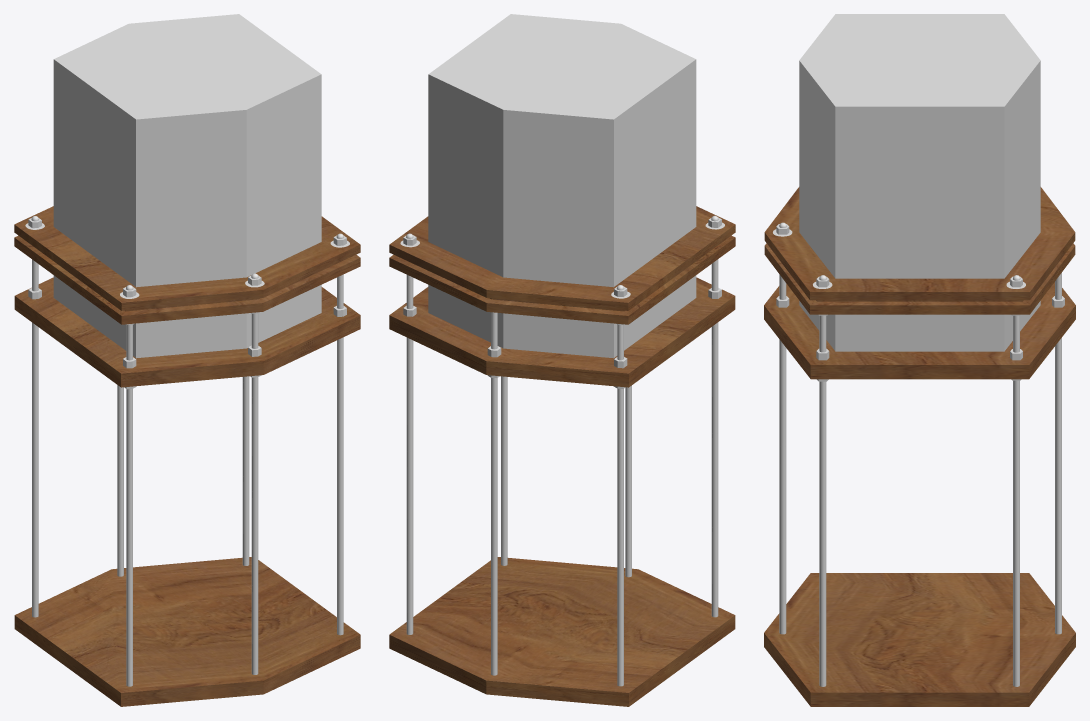
Rendered from exagono_tronquito003.fbx.
3 renders of one model, left to right at view 1: azimuth 30°, elevation 25°; view 2: azimuth 150°, elevation 25°; view 3: azimuth 270°, elevation 25°, orthographic. The views are drawn at different scales.
Parts seen in each view (by area): view 1: Exagono, Cube, BaseSuperior, Base, palo.005, palo.002, palo, palo.003, palo.001, palo.004; view 2: Exagono, Cube, BaseSuperior, Base, palo.001, palo.002, palo.004, palo.003, palo.005, palo; view 3: Exagono, Cube, BaseSuperior, Base, palo, palo.005, palo.001, palo.004.
Part boxes in pixels (x1,y1,x2,y2): Exagono: (53,14,321,358); Cube: (14,557,360,706); BaseSuperior: (14,206,360,324); Base: (14,277,360,387); palo.005: (251,313,258,674); palo.002: (126,325,132,686); palo: (337,274,343,635); palo.003: (32,259,38,617); palo.001: (242,376,249,565); palo.004: (117,385,123,576); Exagono: (428,14,696,358); Cube: (389,557,735,706); BaseSuperior: (389,206,735,324); Base: (389,277,735,387); palo.001: (406,275,413,634); palo.002: (711,259,718,617); palo.004: (491,312,497,675); palo.003: (617,324,623,686); palo.005: (625,385,631,577); palo: (501,376,507,565); Exagono: (799,14,1040,351); Cube: (764,573,1075,706); BaseSuperior: (764,187,1075,314); Base: (764,282,1075,379); palo: (819,315,826,686); palo.005: (779,274,786,634); palo.001: (1013,315,1019,686); palo.004: (1055,273,1061,634).
Bounding box in the file's own units: 760 × 1734 × 836.
